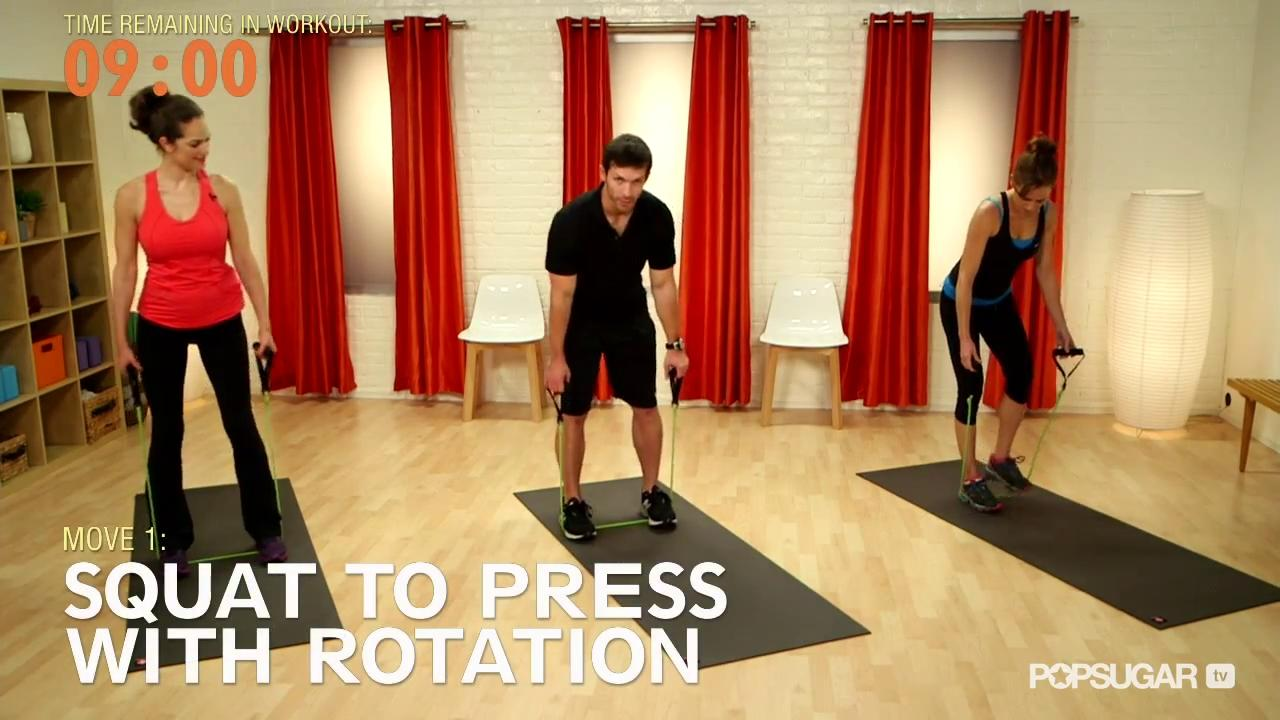victim: (99, 79, 306, 610), (920, 110, 1103, 552), (533, 121, 696, 563)
